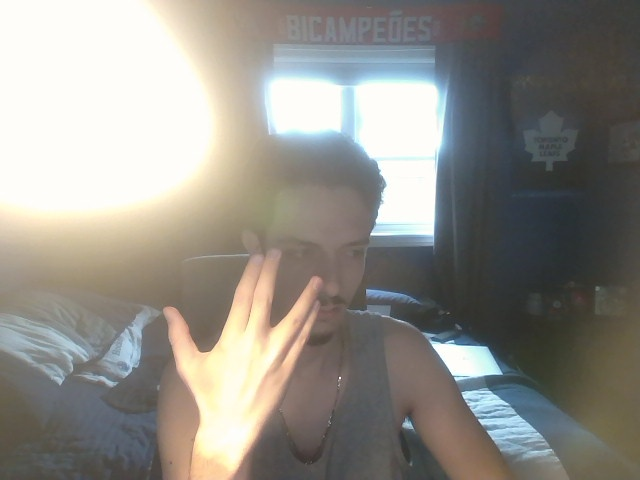LiveLong: (162, 246, 321, 450)
